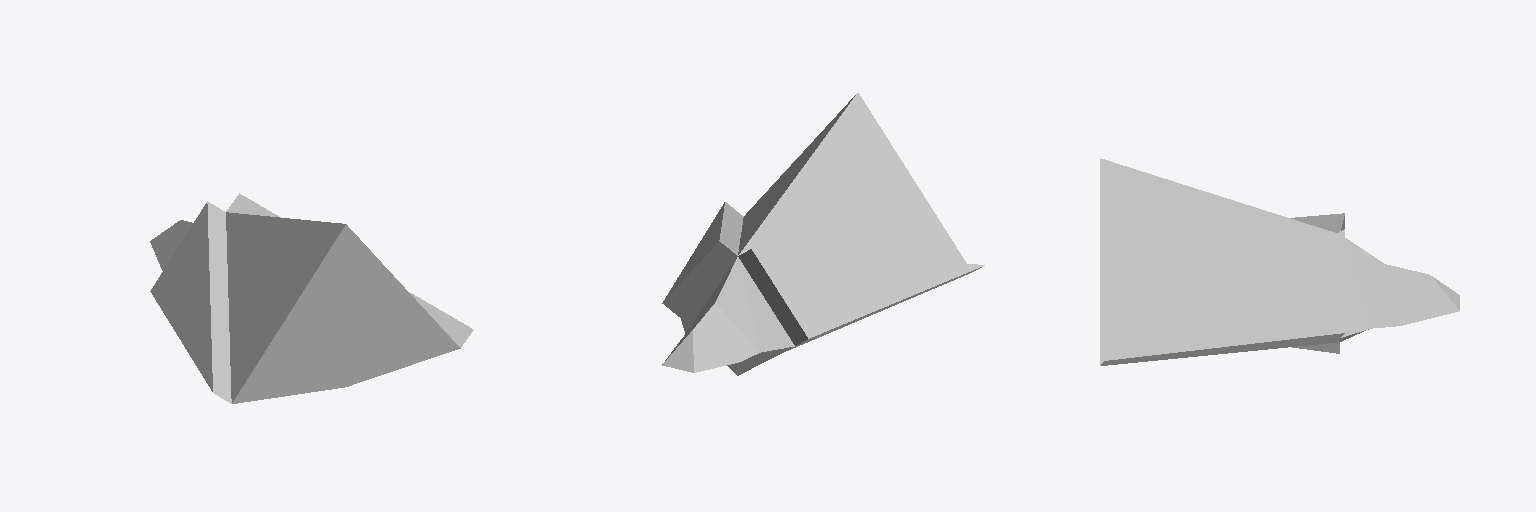
File: Sentinel.obj
3 views of the same model, side by side, from view 1: azimuth 30°, elevation 25°; view 2: azimuth 150°, elevation 25°; view 3: azimuth 270°, elevation 25° (orthographic).
Visible parts, largest first — view 1: Mesh1 Model; view 2: Mesh1 Model; view 3: Mesh1 Model.
Boxes of the visible parts, x1=… form: Mesh1 Model: x1=150, y1=193, x2=473, y2=403; Mesh1 Model: x1=662, y1=93, x2=984, y2=375; Mesh1 Model: x1=1100, y1=158, x2=1459, y2=365.
Size of the model in its own units: 2.51 by 1.8 by 3.